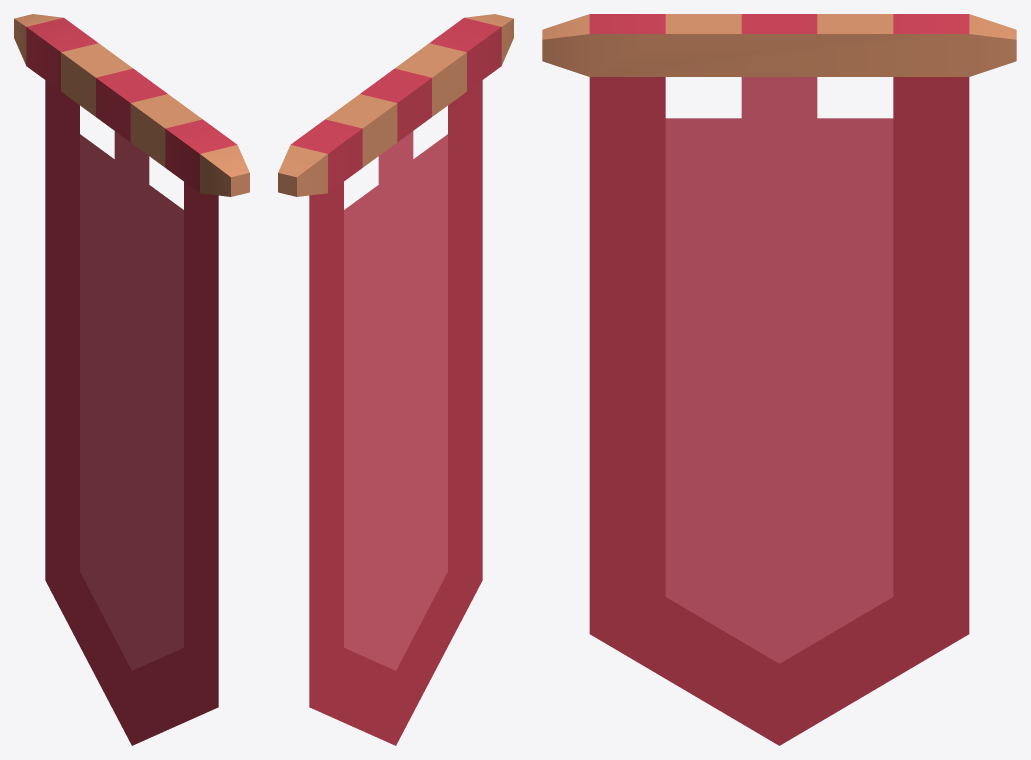
The model's file is bannerRed.obj.
The picture shows the model from 3 angles, left to right: view 1: azimuth 30°, elevation 25°; view 2: azimuth 150°, elevation 25°; view 3: azimuth 270°, elevation 25°; orthographic projection. The views are drawn at different scales.
Parts seen in each view (by area): view 1: bannerRed; view 2: bannerRed; view 3: bannerRed.
Part boxes in pixels (<box>): bannerRed: <box>14,14,249,745</box>; bannerRed: <box>278,14,513,745</box>; bannerRed: <box>542,14,1016,745</box>.
Bounding box in the file's own units: 0.05 × 0.8394 × 0.5.
